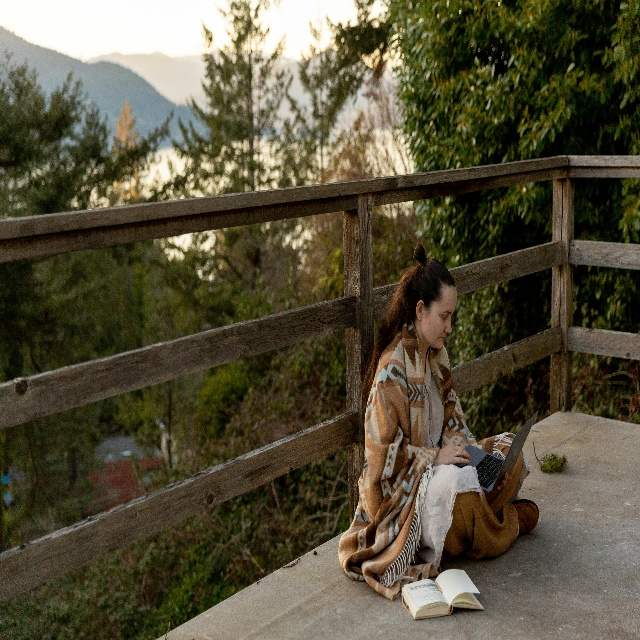Sin_guantes: (433, 441, 471, 465)
